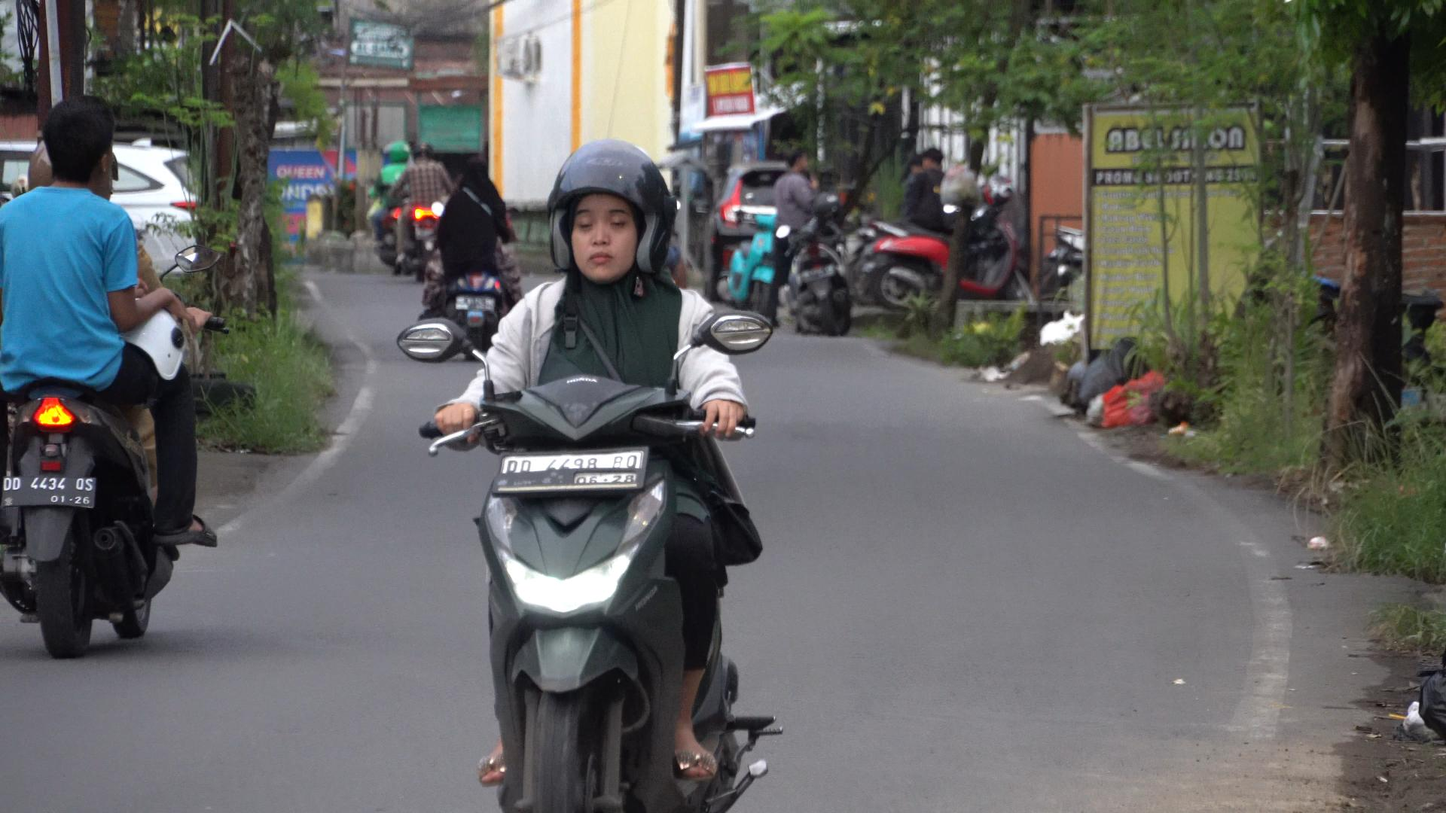number-plate: (497, 447, 649, 492)
